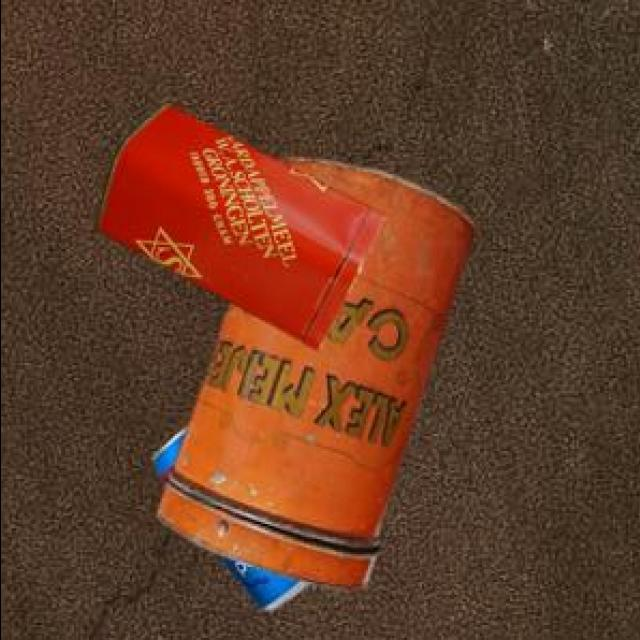logam: (160, 154, 480, 587), (98, 100, 390, 347), (214, 537, 310, 607), (156, 425, 214, 537)
